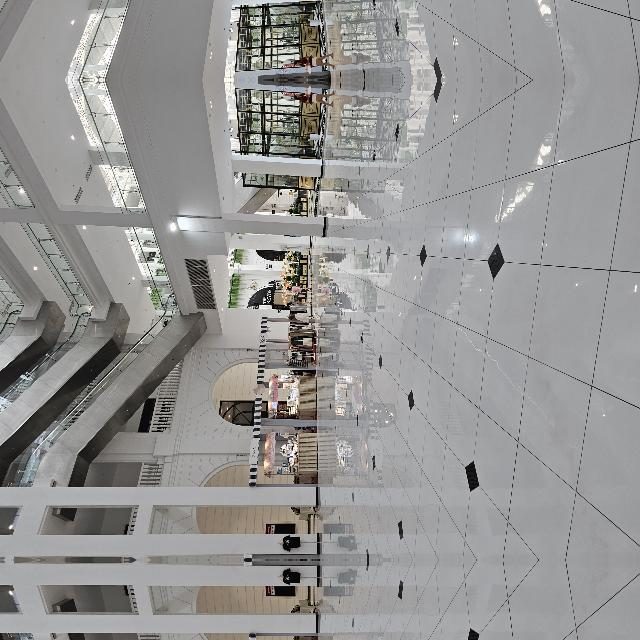obstacle: (136, 338, 188, 400), (79, 338, 131, 399), (197, 363, 257, 399)
person: (452, 370, 478, 414)
